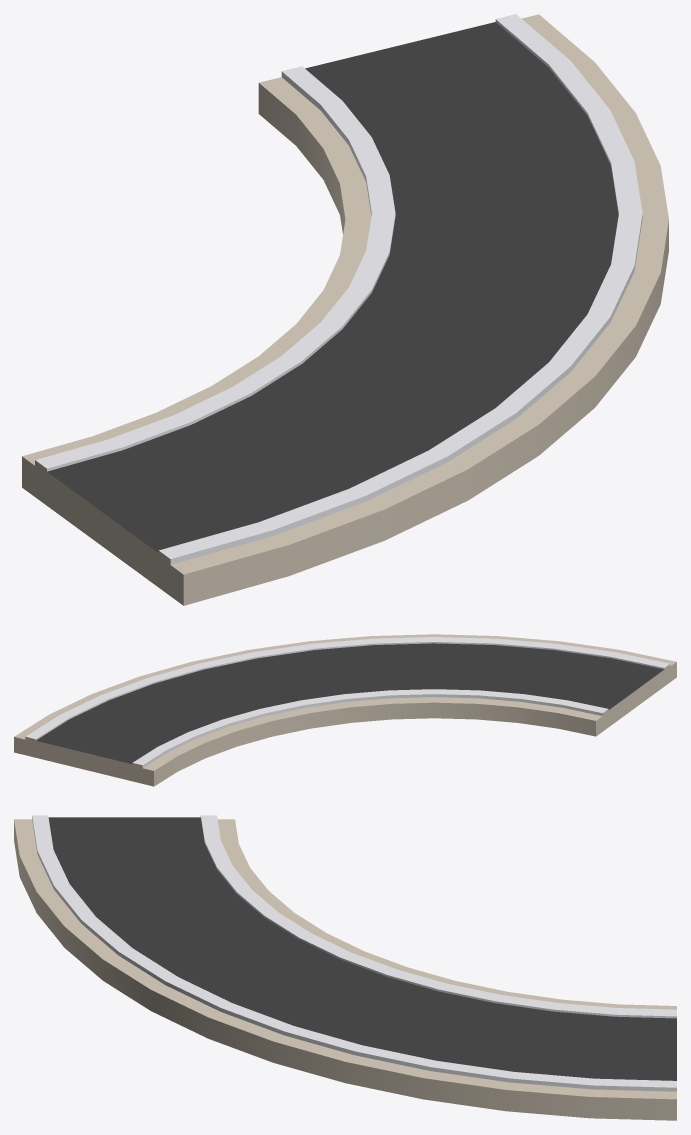
Rendered from roadCornerBridgeLarger.obj.
3 views of the same model, one above another, from view 1: azimuth 30°, elevation 25°; view 2: azimuth 150°, elevation 25°; view 3: azimuth 270°, elevation 25° (orthographic). The views are drawn at different scales.
Visible parts, largest first — view 1: roadCornerBridgeLarger; view 2: roadCornerBridgeLarger; view 3: roadCornerBridgeLarger.
Part boxes in pixels (x1,y1,x2,y2): roadCornerBridgeLarger: (22, 14, 668, 605); roadCornerBridgeLarger: (14, 634, 676, 786); roadCornerBridgeLarger: (14, 815, 676, 1120).
Size of the model in its own units: 3 by 0.1266 by 3.
